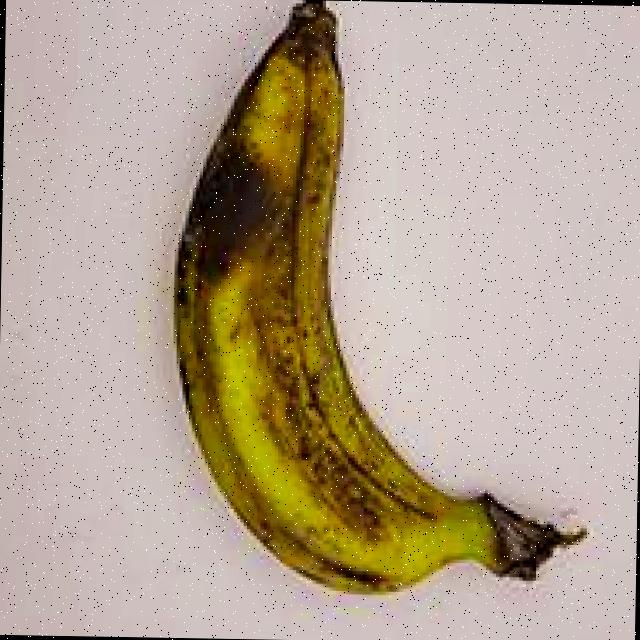Overripe: (128, 0, 612, 612)
